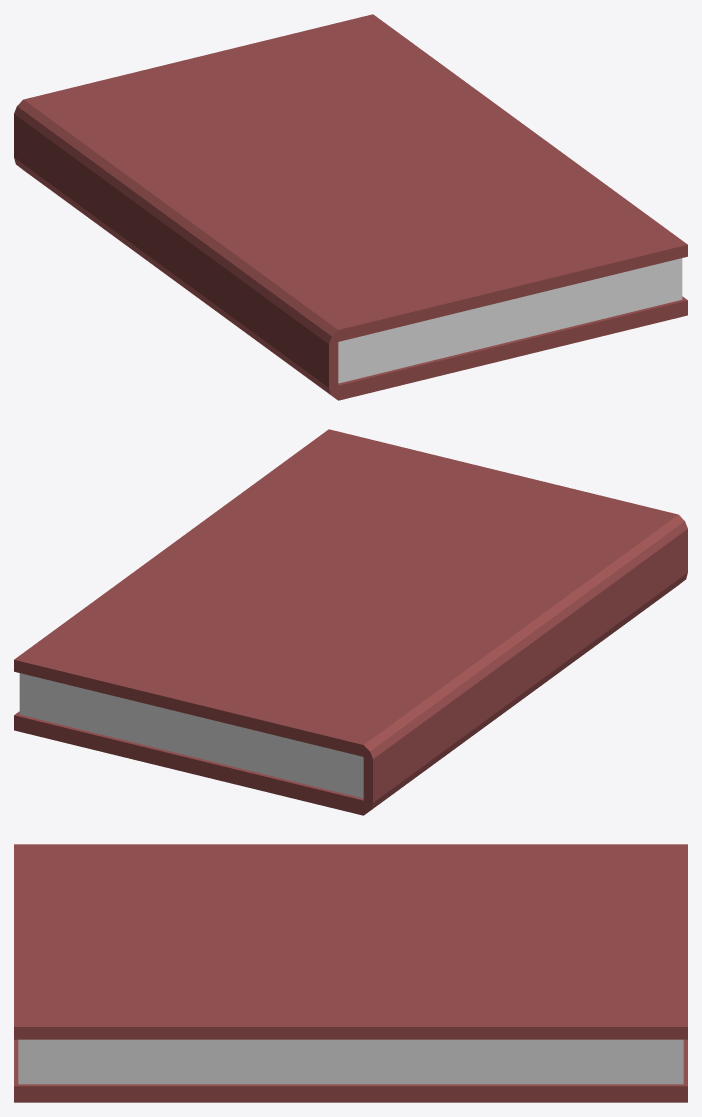
The model's file is libroRojo.fbx.
3 renders of one model, top to bottom at view 1: azimuth 30°, elevation 25°; view 2: azimuth 150°, elevation 25°; view 3: azimuth 270°, elevation 25°, orthographic. The views are drawn at different scales.
Visible parts, largest first — view 1: Cube; view 2: Cube; view 3: Cube.
Part boxes in pixels (x1,y1,x2,y2): Cube: [14, 14, 687, 400]; Cube: [14, 429, 687, 815]; Cube: [14, 844, 687, 1102].
Bounding box in the file's own units: 78.65 × 14.8 × 119.
